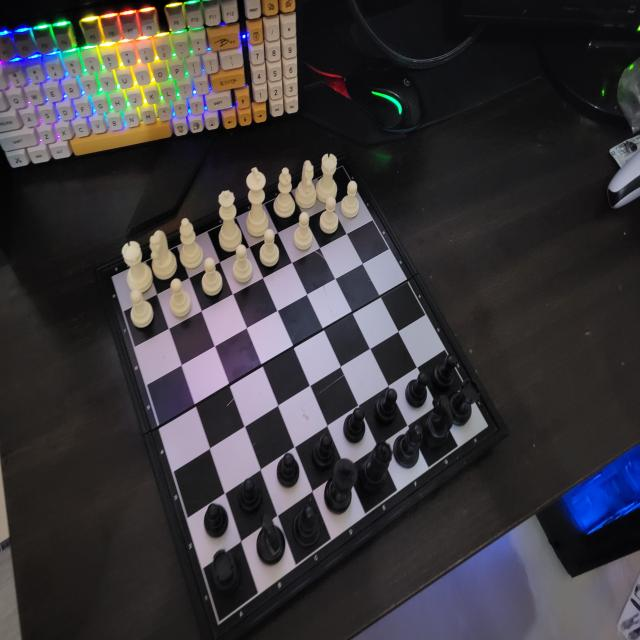black-bishop: (392, 421, 424, 470), (292, 503, 322, 551)
black-king: (323, 456, 359, 516)
black-knight: (255, 512, 286, 570), (422, 393, 454, 449)
black-pawn: (430, 349, 460, 392), (237, 475, 264, 515), (341, 405, 368, 445), (373, 386, 400, 426), (202, 502, 230, 540), (310, 431, 336, 471), (404, 368, 430, 408), (274, 451, 301, 489)
black-queen: (358, 439, 394, 498)
black-rook: (210, 545, 244, 599), (451, 375, 483, 425)
chess-board: (107, 158, 496, 638)
white-bishop: (178, 216, 204, 270), (274, 166, 296, 220)
white-king: (245, 165, 270, 239)
white-knight: (149, 228, 177, 281), (294, 160, 318, 210)
white-pawn: (128, 290, 155, 332), (168, 278, 192, 319), (230, 243, 254, 284), (258, 228, 281, 270), (200, 257, 224, 297), (292, 211, 314, 253), (318, 196, 340, 237), (340, 179, 361, 221)
white-queen: (216, 189, 246, 253)
white-rook: (120, 239, 153, 296), (316, 153, 338, 204)
